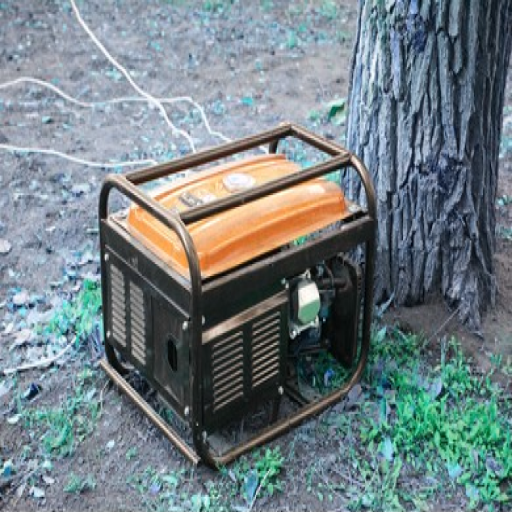portable_generator: (98, 122, 379, 468)
